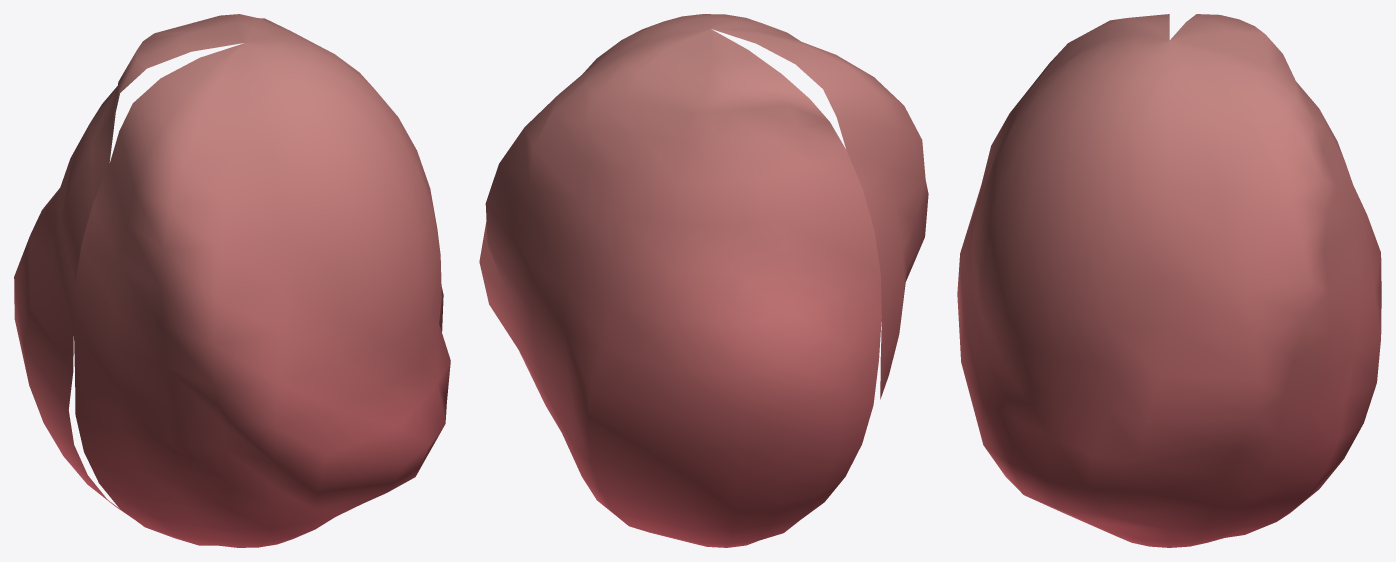
File: strawberry.glb
3 views of the same model, side by side, from view 1: azimuth 30°, elevation 25°; view 2: azimuth 150°, elevation 25°; view 3: azimuth 270°, elevation 25° (orthographic).
Visible parts, largest first — view 1: strawberry; view 2: strawberry; view 3: strawberry.
Boxes of the visible parts, bbox=[...] form: strawberry: bbox=[14, 14, 450, 547]; strawberry: bbox=[479, 14, 928, 547]; strawberry: bbox=[957, 14, 1381, 547].
Bounding box in the file's own units: 0.5999 × 0.77 × 0.5982.
